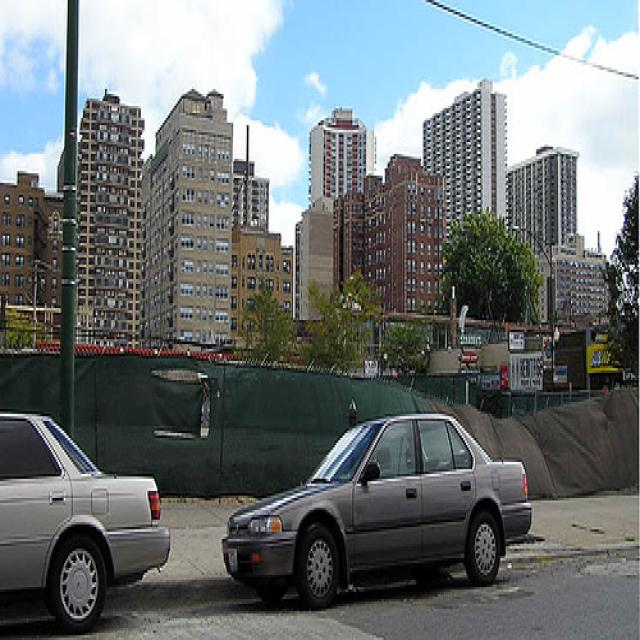car: (219, 408, 536, 603), (1, 405, 176, 631)
